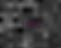one: (24, 20, 29, 28)
seven: (18, 20, 23, 28)
zero: (30, 19, 35, 27), (36, 19, 41, 27)
